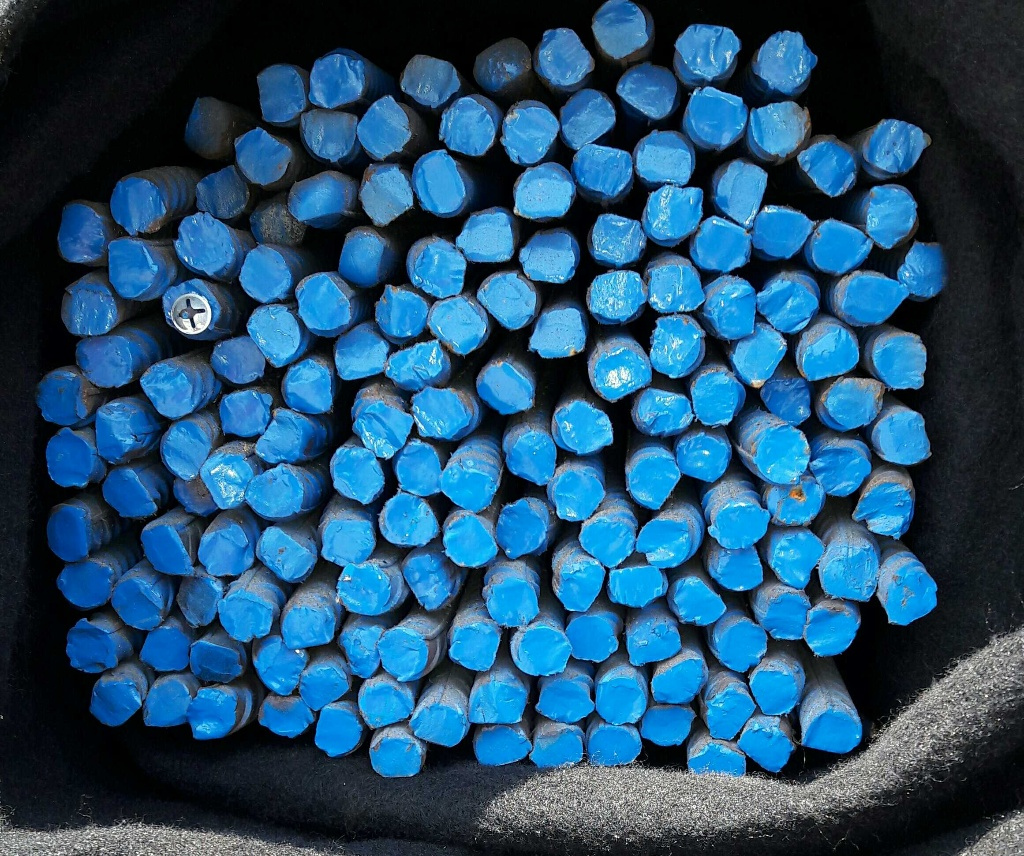dipstickw: (475, 271, 541, 331), (676, 23, 740, 80), (649, 315, 705, 379), (756, 31, 817, 89), (406, 238, 465, 297), (689, 87, 748, 146), (616, 63, 677, 120), (799, 323, 860, 380), (732, 323, 786, 387), (716, 161, 768, 227), (177, 214, 233, 275), (811, 217, 872, 273), (796, 141, 857, 197), (749, 101, 810, 157), (551, 400, 613, 455), (353, 401, 412, 458), (179, 97, 235, 157), (560, 88, 615, 149), (412, 150, 465, 213), (473, 38, 532, 94), (297, 275, 351, 336), (358, 96, 410, 159), (867, 185, 917, 250), (429, 298, 486, 355), (538, 28, 594, 86), (863, 120, 925, 172), (517, 162, 574, 218), (591, 1, 648, 57), (257, 525, 315, 580), (593, 346, 652, 400), (96, 402, 148, 463), (109, 178, 165, 234), (501, 108, 558, 163), (244, 465, 304, 517), (587, 270, 647, 322), (695, 216, 751, 271), (402, 556, 456, 613), (247, 307, 300, 365), (413, 387, 471, 440), (520, 232, 580, 283), (647, 186, 703, 240), (441, 98, 494, 155), (813, 443, 870, 496), (360, 168, 412, 226), (401, 54, 459, 106), (574, 145, 632, 197), (872, 411, 930, 463), (760, 281, 818, 333), (385, 341, 449, 388), (288, 175, 350, 223), (858, 483, 913, 537), (635, 132, 691, 185), (820, 547, 876, 600), (163, 280, 220, 332), (257, 63, 307, 122), (74, 338, 133, 388), (753, 207, 812, 257), (61, 282, 115, 336), (772, 532, 824, 588), (873, 333, 925, 389), (332, 446, 383, 503), (299, 109, 357, 159), (162, 420, 211, 479), (825, 378, 885, 426), (237, 129, 290, 183), (141, 364, 195, 417), (335, 326, 388, 380), (310, 56, 365, 108), (757, 426, 809, 481), (457, 212, 513, 263), (842, 274, 900, 323), (239, 247, 292, 300), (494, 504, 546, 558), (339, 232, 391, 286), (627, 456, 679, 510), (632, 389, 693, 435), (194, 167, 249, 218), (381, 495, 436, 546), (477, 363, 533, 413), (529, 309, 586, 358), (36, 371, 89, 423), (141, 525, 195, 576), (507, 431, 557, 486), (714, 500, 770, 549), (445, 514, 497, 566), (552, 469, 604, 521), (337, 564, 391, 614), (108, 239, 156, 295), (58, 205, 105, 262), (46, 429, 92, 487), (256, 643, 307, 695), (201, 455, 251, 508), (592, 214, 645, 264), (692, 371, 742, 424), (283, 359, 332, 413), (556, 559, 605, 613), (801, 709, 861, 753), (767, 477, 822, 525), (197, 528, 253, 575), (440, 465, 496, 512), (648, 264, 704, 311), (707, 281, 754, 337), (638, 519, 691, 568), (102, 468, 157, 515), (651, 658, 707, 704), (66, 621, 117, 671), (378, 628, 427, 680), (518, 626, 570, 675), (674, 575, 726, 624), (565, 614, 618, 662), (739, 726, 793, 773), (218, 593, 273, 639), (581, 520, 636, 566), (708, 544, 763, 590), (113, 578, 162, 629), (449, 622, 500, 671), (705, 688, 754, 739), (219, 389, 271, 437), (375, 289, 427, 337), (469, 680, 527, 723), (806, 609, 859, 656), (719, 620, 767, 671), (255, 410, 302, 462), (887, 571, 934, 623), (212, 336, 265, 382), (46, 505, 89, 561), (300, 662, 350, 710), (177, 575, 224, 626), (315, 705, 362, 756), (761, 378, 812, 425), (359, 682, 412, 727), (396, 442, 441, 495), (676, 436, 729, 481), (596, 677, 646, 724), (190, 688, 236, 739), (474, 725, 531, 766), (537, 681, 592, 723), (902, 243, 944, 298), (488, 579, 537, 626), (606, 567, 665, 606), (322, 520, 373, 565), (281, 606, 334, 649), (339, 626, 381, 679), (412, 705, 466, 746), (143, 679, 190, 726), (765, 592, 812, 639), (190, 640, 241, 683), (628, 624, 681, 665), (260, 696, 314, 736), (749, 670, 798, 714), (61, 563, 111, 606), (588, 727, 641, 767), (92, 682, 141, 725), (369, 737, 421, 777), (141, 630, 190, 671), (641, 706, 692, 745), (533, 728, 583, 767), (688, 743, 746, 776)
